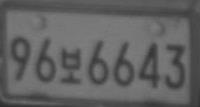3: (164, 43, 185, 89)
4: (138, 43, 161, 89)
6: (113, 40, 135, 85), (36, 37, 56, 83), (88, 39, 108, 84), (10, 37, 31, 79)
보: (60, 46, 82, 84)
